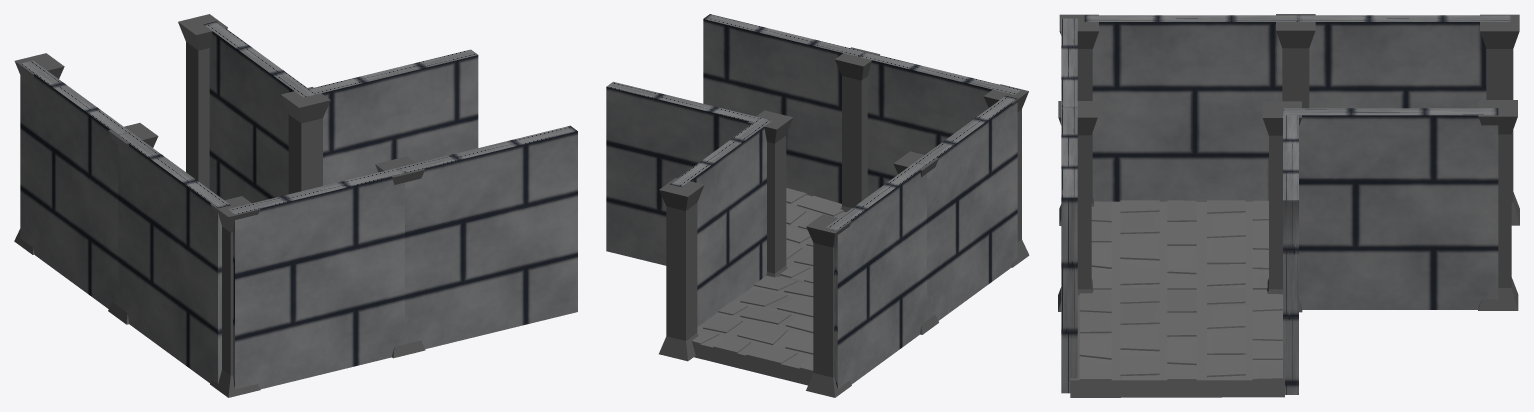
File: bocht.fbx
3 renders of one model, left to right at view 1: azimuth 30°, elevation 25°; view 2: azimuth 150°, elevation 25°; view 3: azimuth 270°, elevation 25°, orthographic. The views are drawn at different scales.
Visible parts, largest first — view 1: wall.029, wall.030, wall.027, wall.028, wall.031, wall.032, pilar.036, pilar.035, pilar.033, pilar.034, pilar.032, pilar.031; view 2: wall.029, wall.028, wall.027, wall.031, wall.032, wall.030, floor.004, pilar.036, pilar.031, pilar.034, pilar.035, floor.005 (+2 smaller); view 3: wall.032, wall.027, floor.005, wall.028, floor.004, wall.029, wall.031, pilar.036, pilar.034, pilar.035, pilar.031, pilar.032 (+2 smaller).
Boxes of the visible parts, box(x1,y1,x2,y2) form: wall.029: box(398, 125, 577, 349); wall.030: box(228, 168, 407, 389); wall.027: box(118, 132, 230, 383); wall.028: box(20, 60, 130, 308); wall.031: box(306, 49, 478, 185); wall.032: box(203, 21, 315, 203); pilar.036: box(178, 14, 227, 189); pilar.035: box(281, 87, 330, 194); pilar.033: box(210, 196, 260, 397); pilar.034: box(375, 156, 425, 358); pilar.032: box(108, 123, 158, 324); pilar.031: box(14, 53, 64, 254); wall.029: box(703, 14, 866, 203); wall.028: box(826, 162, 926, 388); wall.027: box(915, 96, 1017, 320); wall.031: box(606, 81, 768, 265); wall.032: box(670, 118, 771, 326); wall.030: box(858, 52, 1021, 196); floor.004: box(692, 240, 813, 385); pilar.036: box(659, 178, 704, 361); pilar.031: box(806, 214, 851, 397); pilar.034: box(835, 47, 879, 212); pilar.035: box(748, 110, 793, 277); floor.005: box(786, 188, 845, 259); wall.032: box(1283, 108, 1498, 309); wall.027: box(1084, 15, 1299, 201); floor.005: box(1070, 288, 1284, 397); wall.028: box(1296, 15, 1510, 108); floor.004: box(1091, 200, 1268, 289); wall.029: box(1061, 107, 1077, 393); wall.031: box(1283, 110, 1298, 394); pilar.036: box(1478, 100, 1518, 310); pilar.034: box(1058, 101, 1097, 311); pilar.035: box(1262, 101, 1302, 312); pilar.031: box(1480, 14, 1519, 225); pilar.032: box(1276, 14, 1315, 108).
Bounding box in the file's own units: 411 × 203 × 430.
